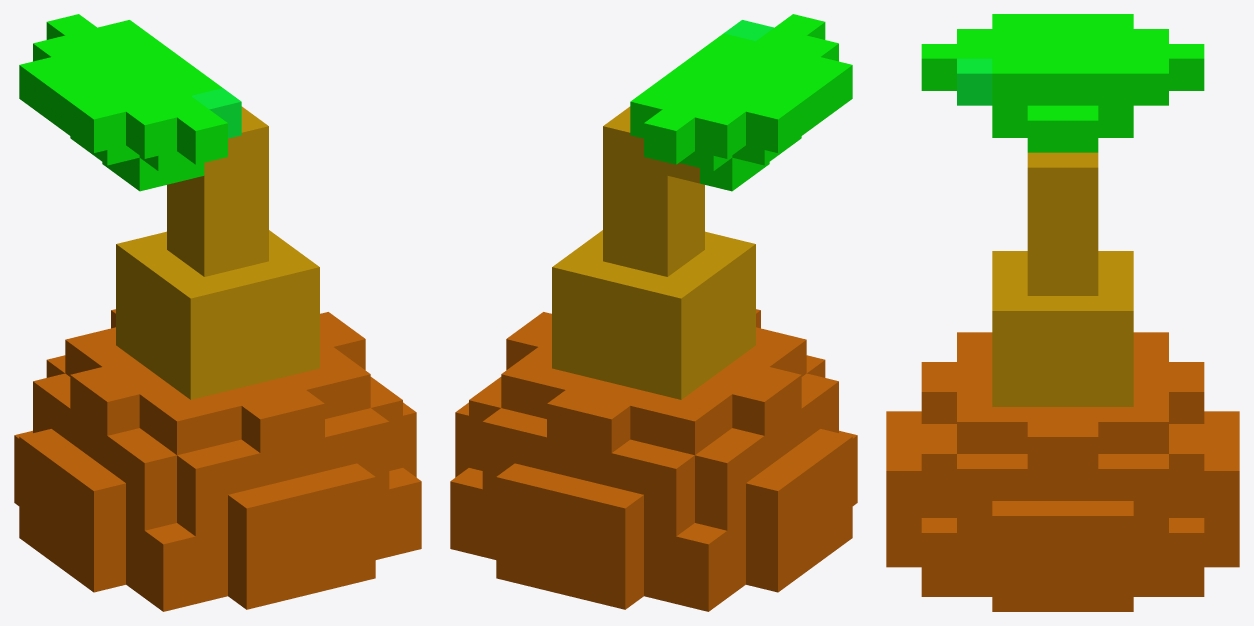
The model's file is sapling.obj.
3 renders of one model, left to right at view 1: azimuth 30°, elevation 25°; view 2: azimuth 150°, elevation 25°; view 3: azimuth 270°, elevation 25°, orthographic. The views are drawn at different scales.
Size of the model in its own units: 10 by 14 by 10.
1 material, 1 textured.
